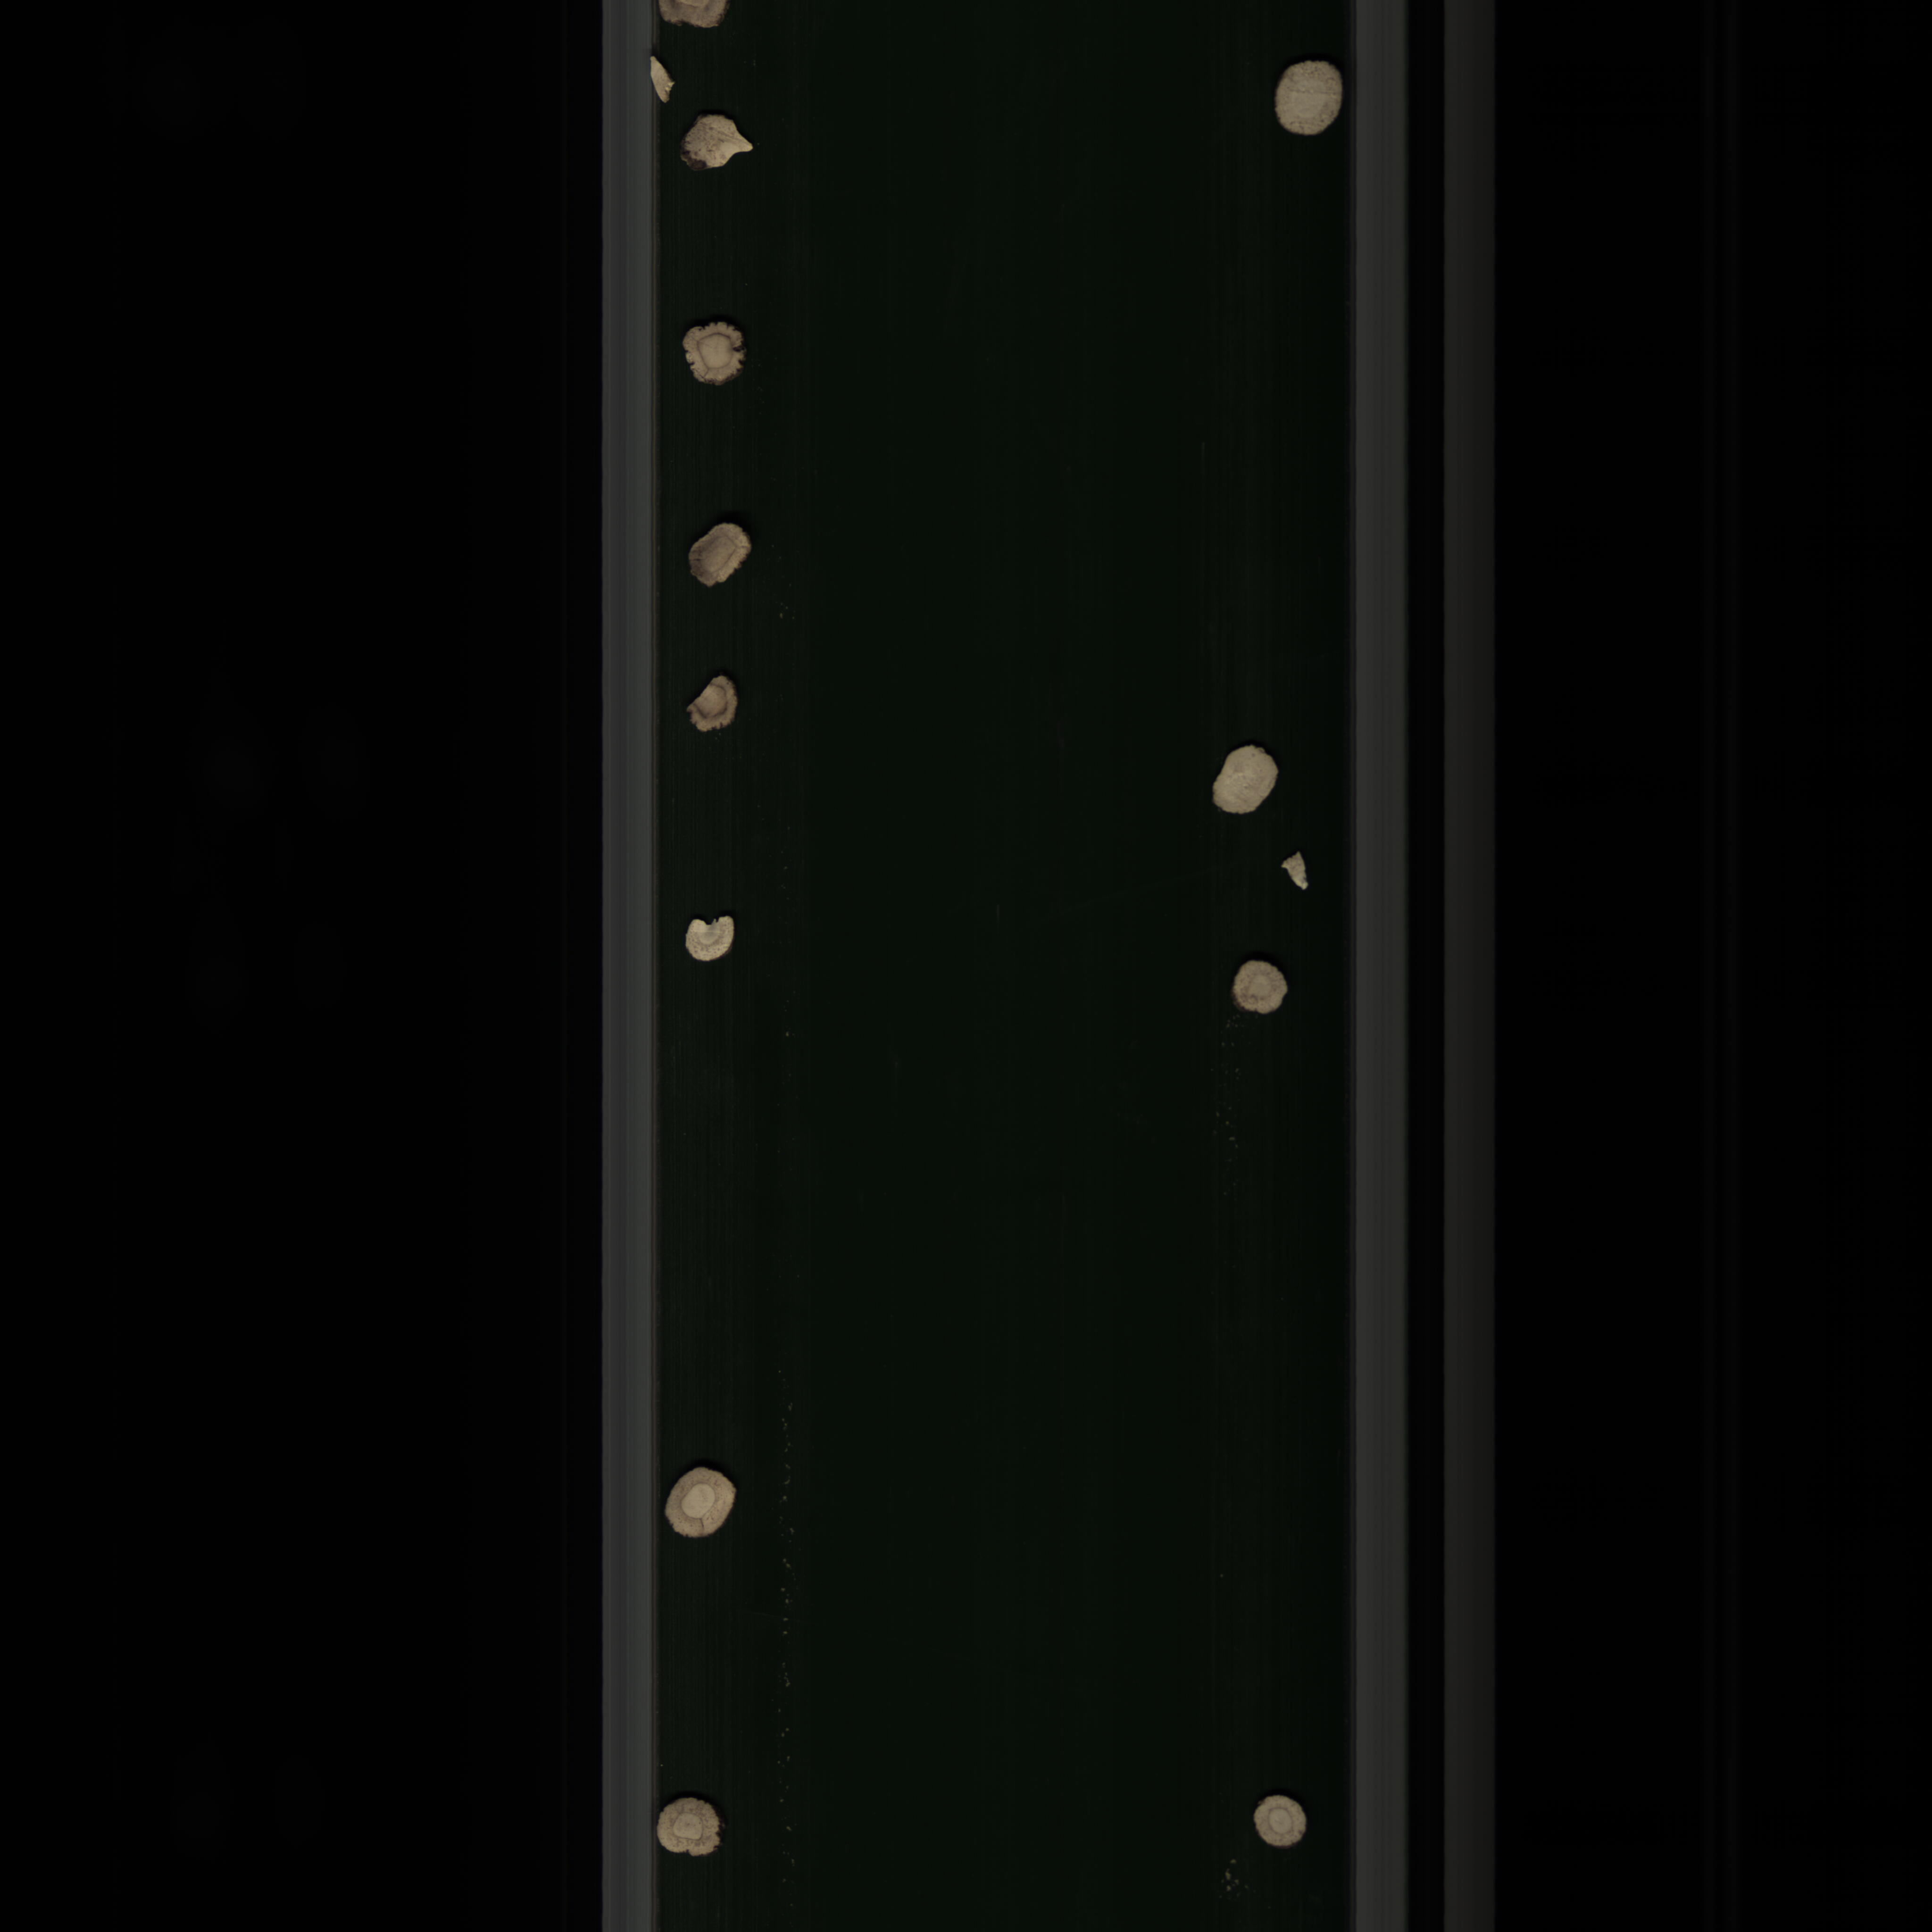debris: (678, 117, 757, 177), (674, 916, 741, 964), (642, 48, 679, 108), (1274, 847, 1316, 895)
distortion: (669, 320, 755, 393)
moldy: (686, 676, 745, 731)
